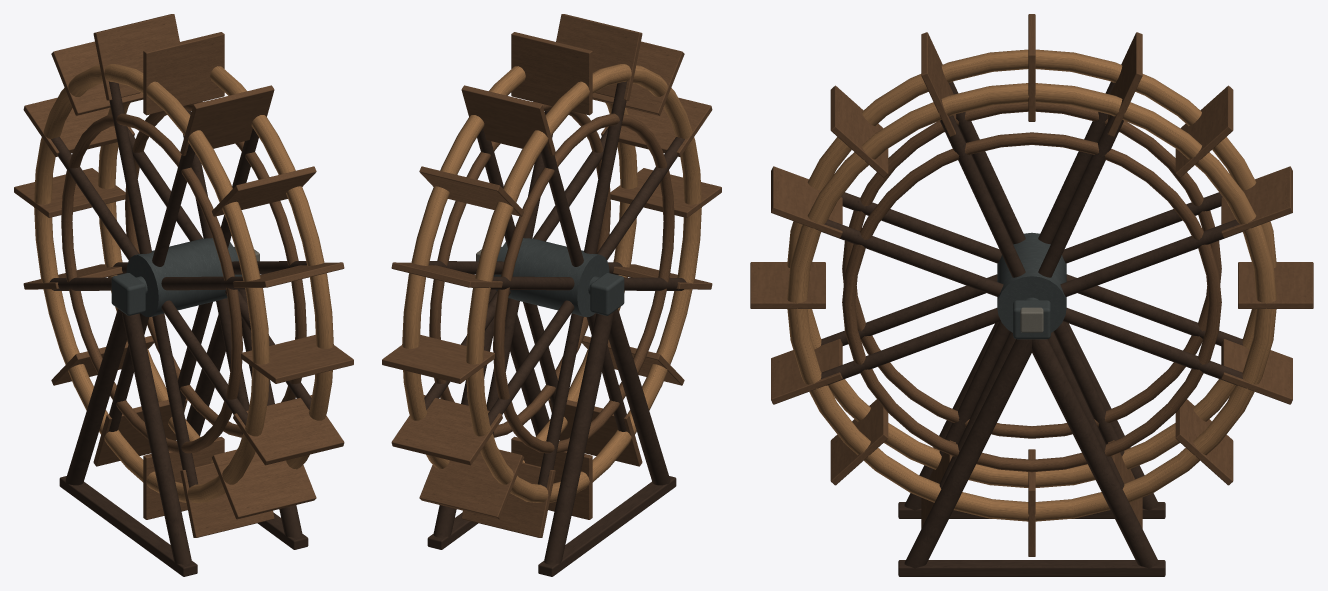
The model's file is water_wheel.glb.
3 renders of one model, left to right at view 1: azimuth 30°, elevation 25°; view 2: azimuth 150°, elevation 25°; view 3: azimuth 270°, elevation 25°, orthographic. The views are drawn at different scales.
Visible parts, largest first — view 1: water_wheel; view 2: water_wheel; view 3: water_wheel.
Part boxes in pixels (x1,y1,x2,y2): water_wheel: [14, 14, 353, 576]; water_wheel: [382, 14, 721, 576]; water_wheel: [750, 14, 1313, 576].
Bounding box in the file's own units: 1.2 × 4 × 4.
1 material, 1 textured.
